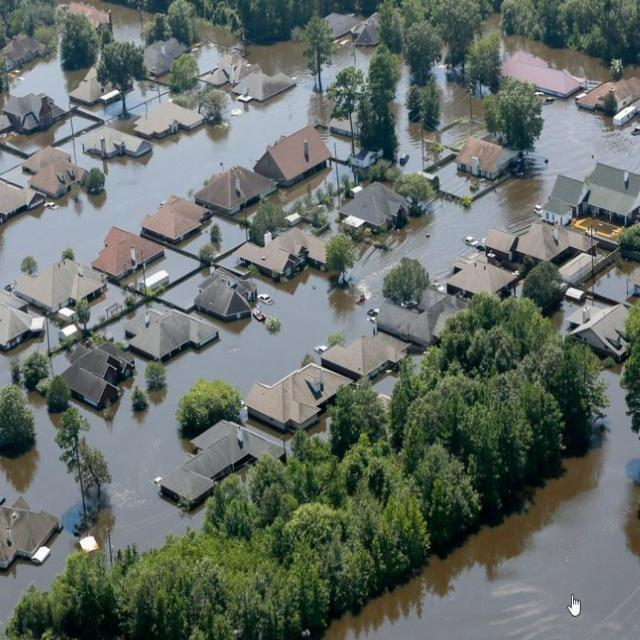flood: (82, 100, 640, 550), (324, 371, 640, 640), (0, 40, 330, 284), (0, 394, 78, 518), (0, 532, 72, 622), (9, 51, 86, 108), (110, 80, 170, 130), (85, 0, 153, 44), (192, 20, 239, 74), (332, 41, 378, 70)
house: (156, 420, 255, 510), (240, 364, 349, 428), (0, 486, 67, 572), (252, 126, 329, 196), (126, 308, 218, 362), (321, 332, 407, 389), (65, 344, 126, 416), (193, 166, 274, 218), (581, 160, 638, 233), (499, 50, 588, 96), (21, 258, 100, 308), (95, 224, 163, 281), (570, 296, 634, 356), (341, 180, 408, 237), (0, 141, 40, 230), (196, 267, 262, 320), (141, 196, 209, 247), (0, 286, 42, 356), (0, 90, 60, 138), (26, 146, 81, 197), (449, 259, 517, 300), (460, 132, 518, 180), (380, 302, 440, 347), (242, 240, 308, 280), (583, 78, 640, 124), (81, 125, 150, 161), (541, 170, 583, 228), (136, 102, 202, 136), (515, 224, 569, 263), (234, 69, 295, 102), (329, 13, 378, 48), (4, 31, 44, 70), (68, 72, 103, 107)
